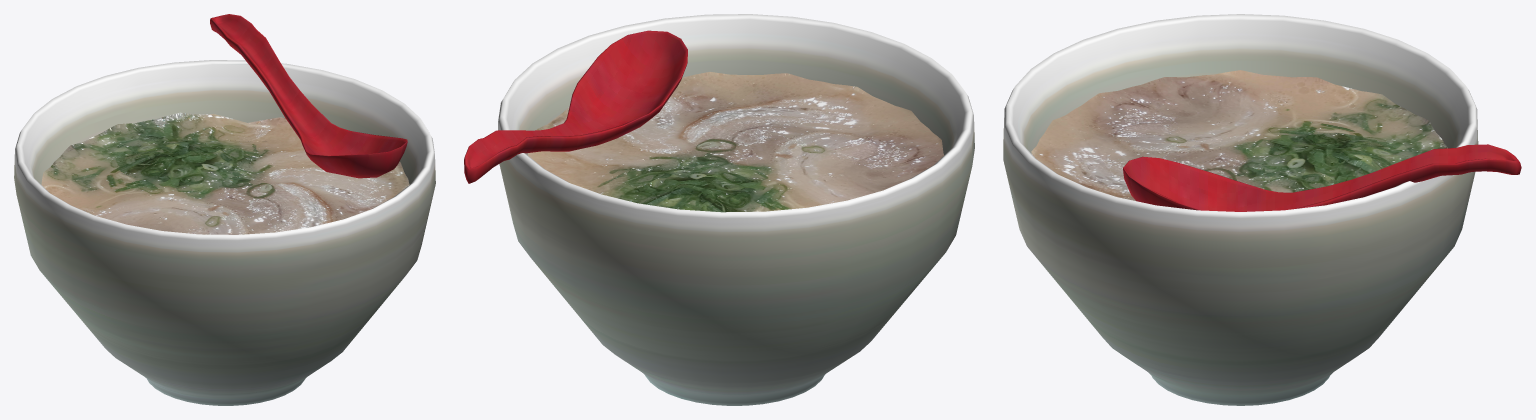
Rendered from ramen.fbx.
3 renders of one model, left to right at view 1: azimuth 30°, elevation 25°; view 2: azimuth 150°, elevation 25°; view 3: azimuth 270°, elevation 25°, orthographic. The views are drawn at different scales.
Visible parts, largest first — view 1: ramen_high; view 2: ramen_high; view 3: ramen_high.
Part boxes in pixels (<box>): ramen_high: <box>14,14,435,405</box>; ramen_high: <box>464,14,974,405</box>; ramen_high: <box>1003,14,1521,405</box>.
Size of the model in its own units: 1.95 by 1.26 by 2.12.
